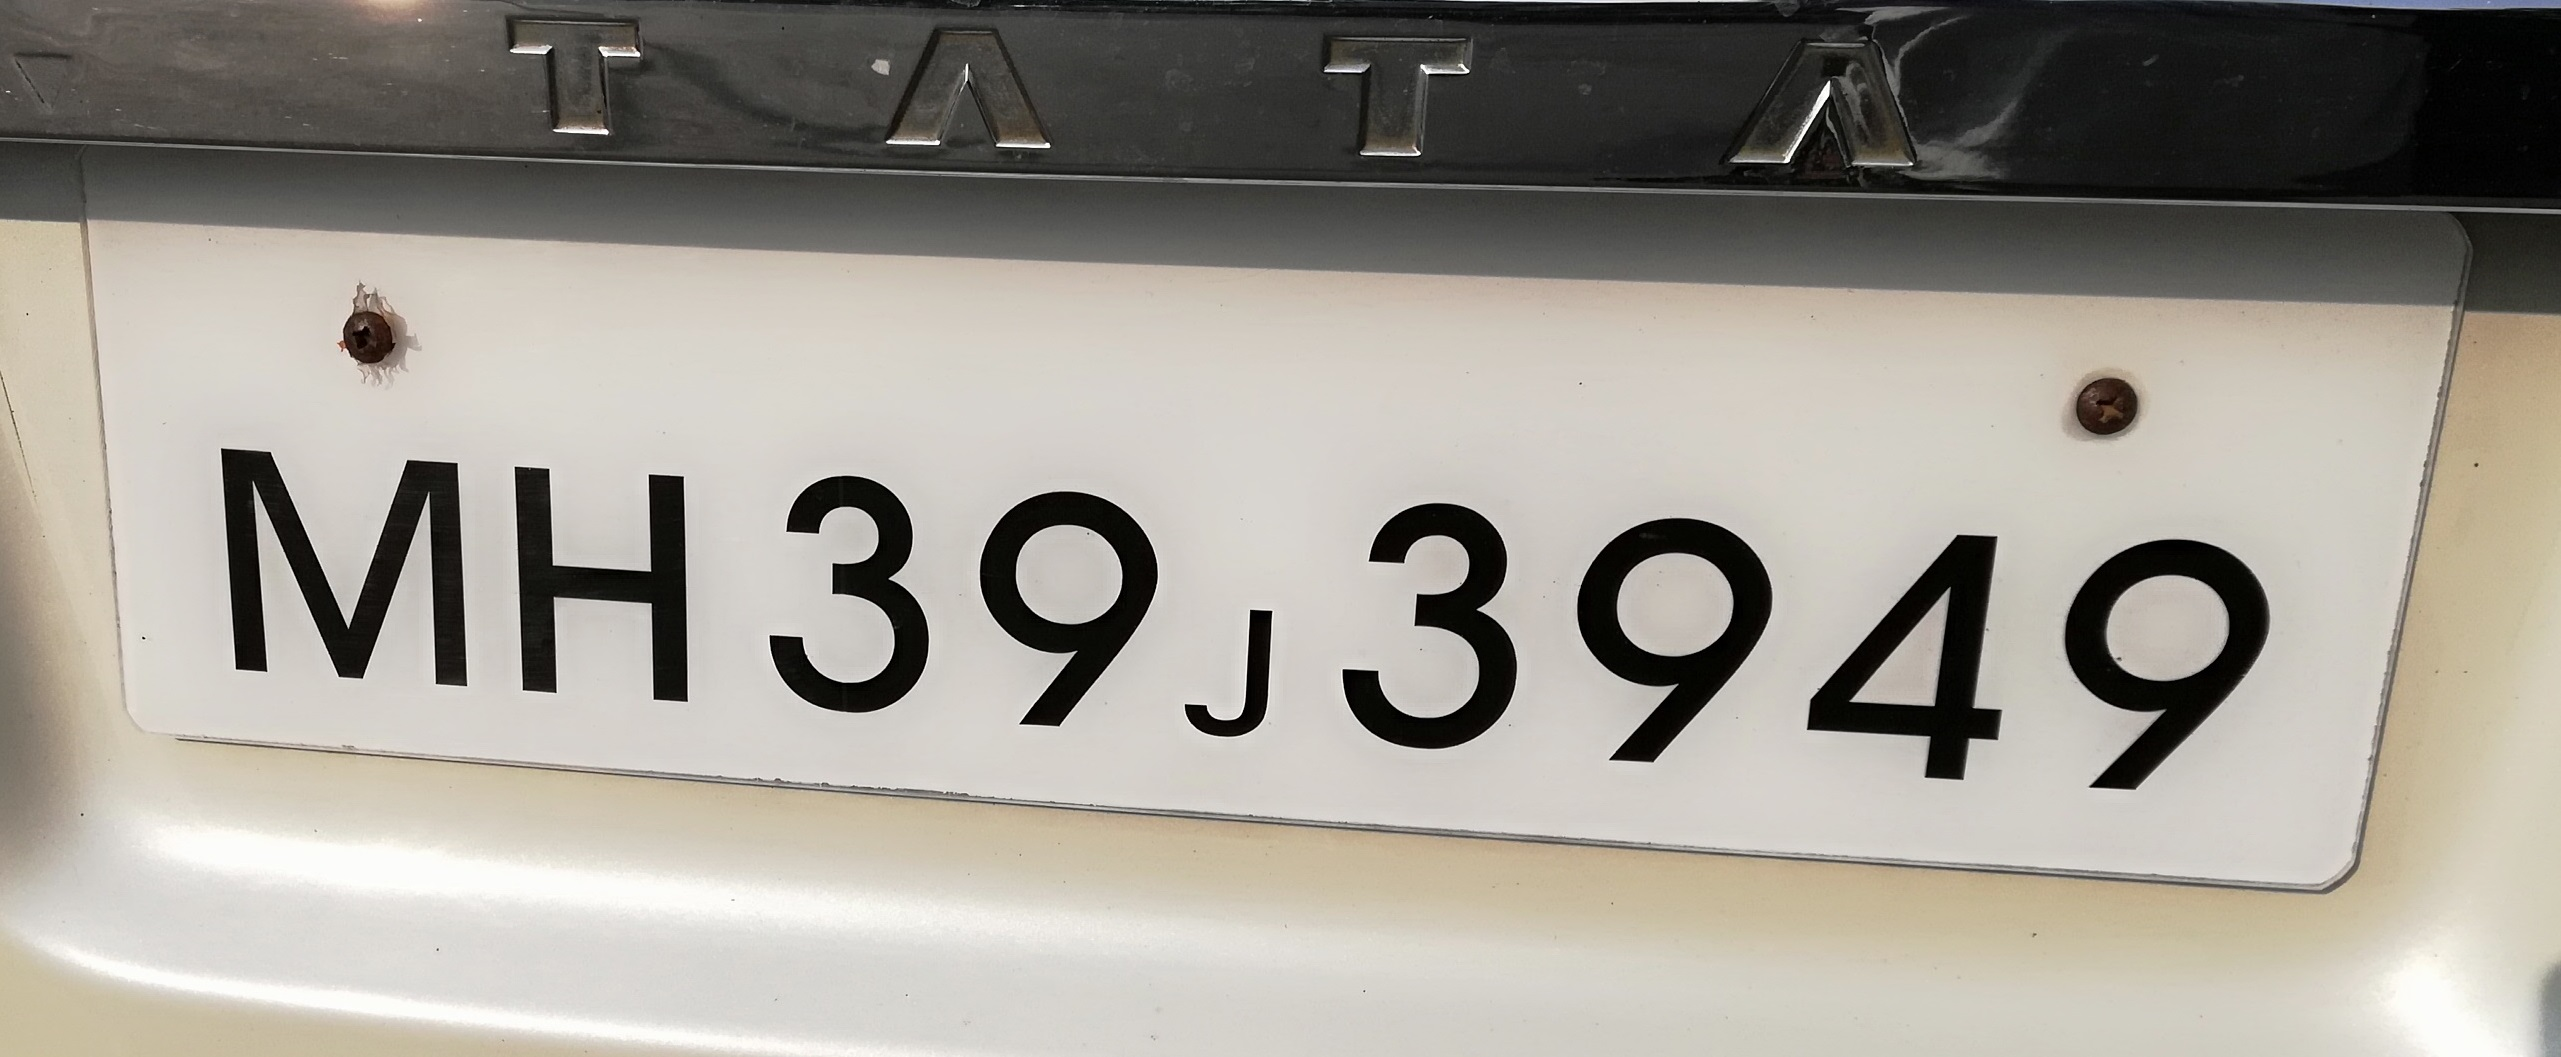numberplate: (69, 143, 2473, 906)
